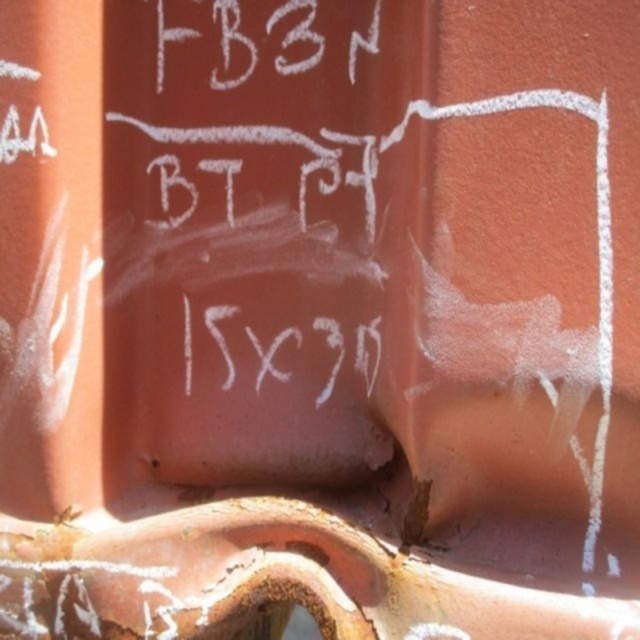Dent: (42, 369, 636, 568)
